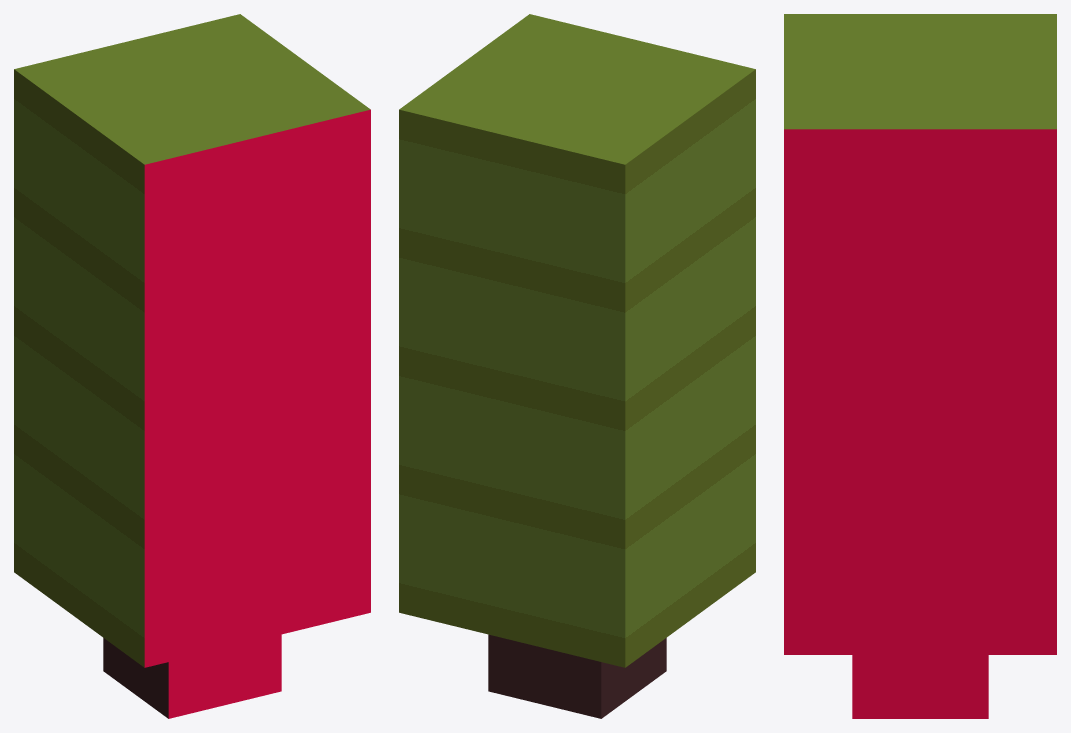
The model's file is tree_4.gltf.
3 renders of one model, left to right at view 1: azimuth 30°, elevation 25°; view 2: azimuth 150°, elevation 25°; view 3: azimuth 270°, elevation 25°, orthographic. The views are drawn at different scales.
Visible parts, largest first — view 1: mesh (×2); view 2: mesh (×2); view 3: mesh (×2).
Boxes of the visible parts, x1,y1,x2,y2 form: mesh (×2): (14,14,370,718); mesh (×2): (399,14,755,718); mesh (×2): (784,14,1056,718).
Bounding box in the file's own units: 1 × 2.5 × 1.
1 material, 1 textured.
